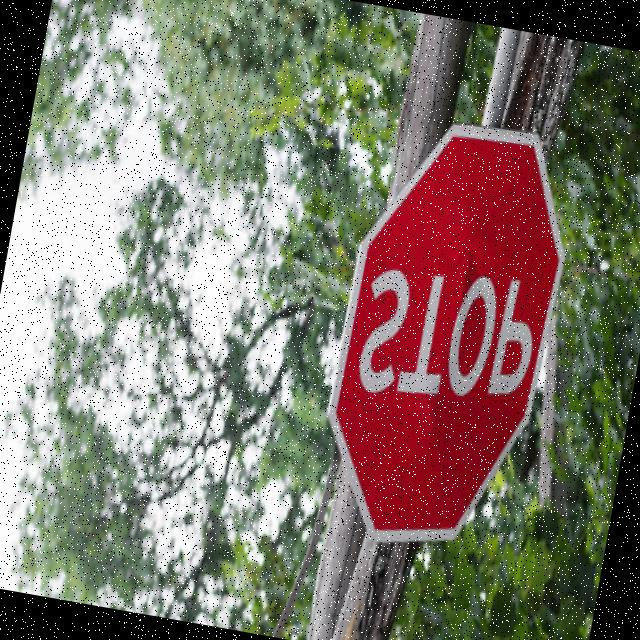stop: (298, 84, 596, 572)
